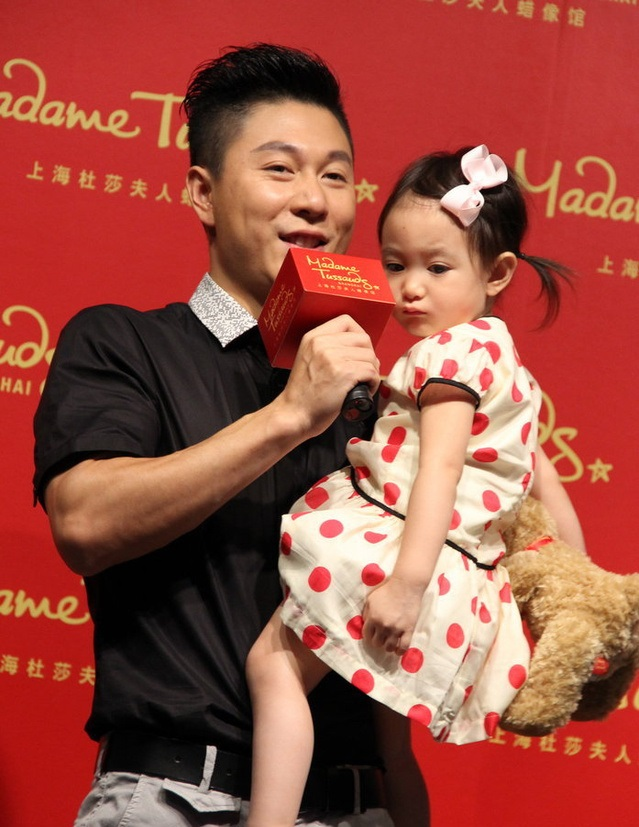face: (218, 93, 353, 295), (380, 198, 480, 341)
